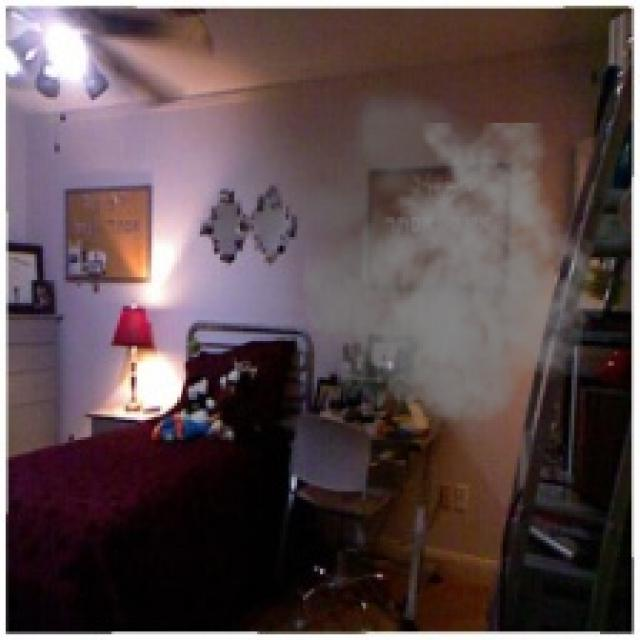smoke: (194, 77, 606, 449)
